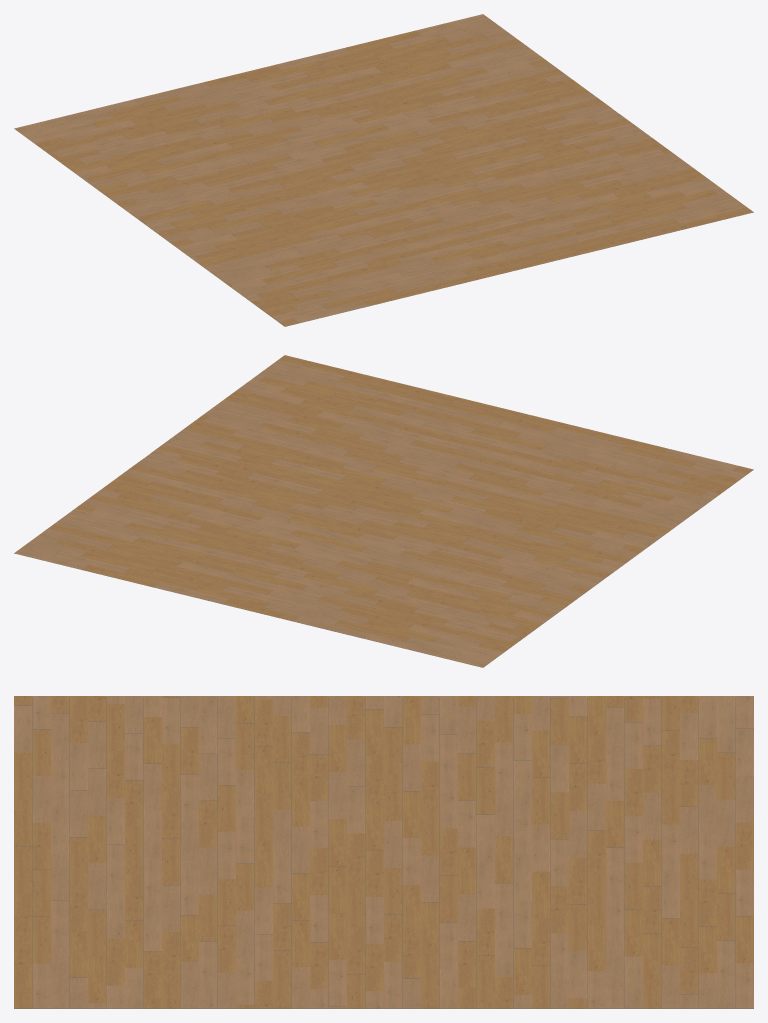
File: leo-naturel-20x120.glb
3 renders of one model, top to bottom at view 1: azimuth 30°, elevation 25°; view 2: azimuth 150°, elevation 25°; view 3: azimuth 270°, elevation 25°, orthographic. The views are drawn at different scales.
Parts seen in each view (by area): view 1: Leo Naturel; view 2: Leo Naturel; view 3: Leo Naturel.
Boxes of the visible parts, bbox=[...] form: Leo Naturel: bbox=[14, 14, 753, 326]; Leo Naturel: bbox=[14, 355, 753, 667]; Leo Naturel: bbox=[14, 696, 753, 1008].
Bounding box in the file's own units: 8 × 0.003 × 8.
Materials: 2 (1 with a texture image).
